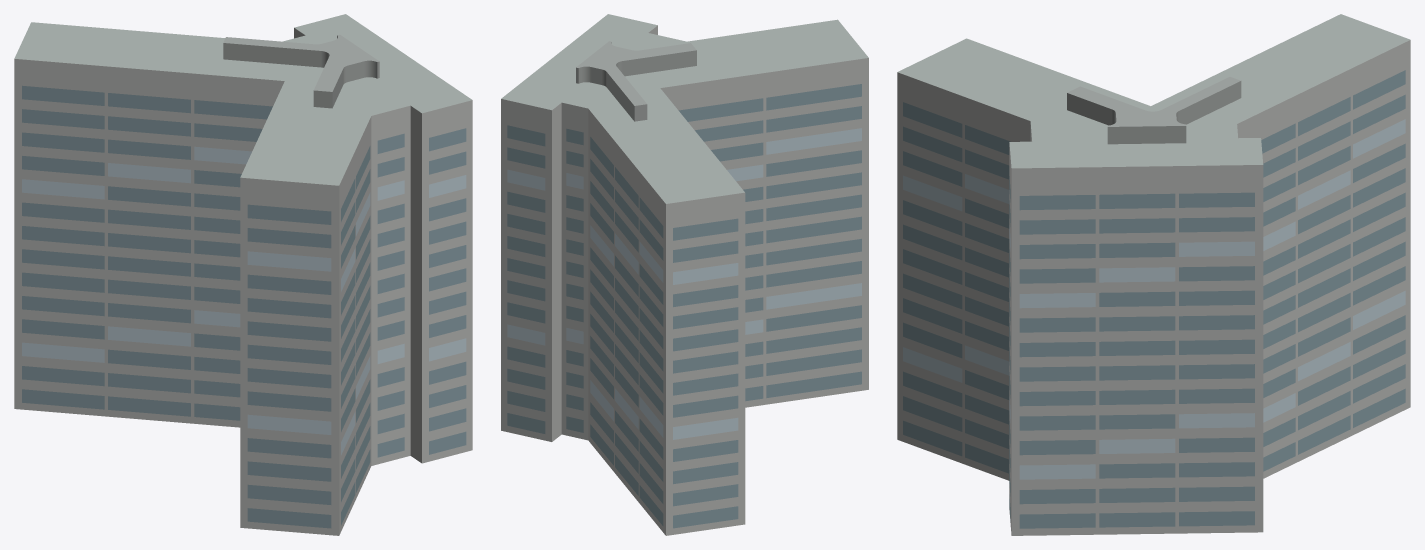
File: fallback-raemian-oksu-riverzen-103.glb
3 renders of one model, left to right at view 1: azimuth 30°, elevation 25°; view 2: azimuth 150°, elevation 25°; view 3: azimuth 270°, elevation 25°, orthographic. The views are drawn at different scales.
Parts seen in each view (by area): view 1: fallback-raemian-oksu-riverzen-103; view 2: fallback-raemian-oksu-riverzen-103; view 3: fallback-raemian-oksu-riverzen-103.
Boxes of the visible parts, left/top/right/bottom form: fallback-raemian-oksu-riverzen-103: left=14, top=14, right=472, bottom=535; fallback-raemian-oksu-riverzen-103: left=501, top=14, right=868, bottom=535; fallback-raemian-oksu-riverzen-103: left=897, top=14, right=1410, bottom=535.
Size of the model in its own units: 37.03 by 43 by 52.01.
